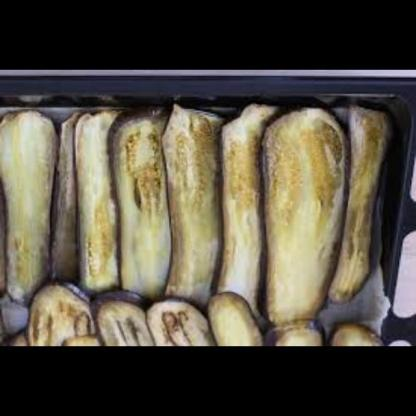eggplant: (6, 114, 396, 347)
